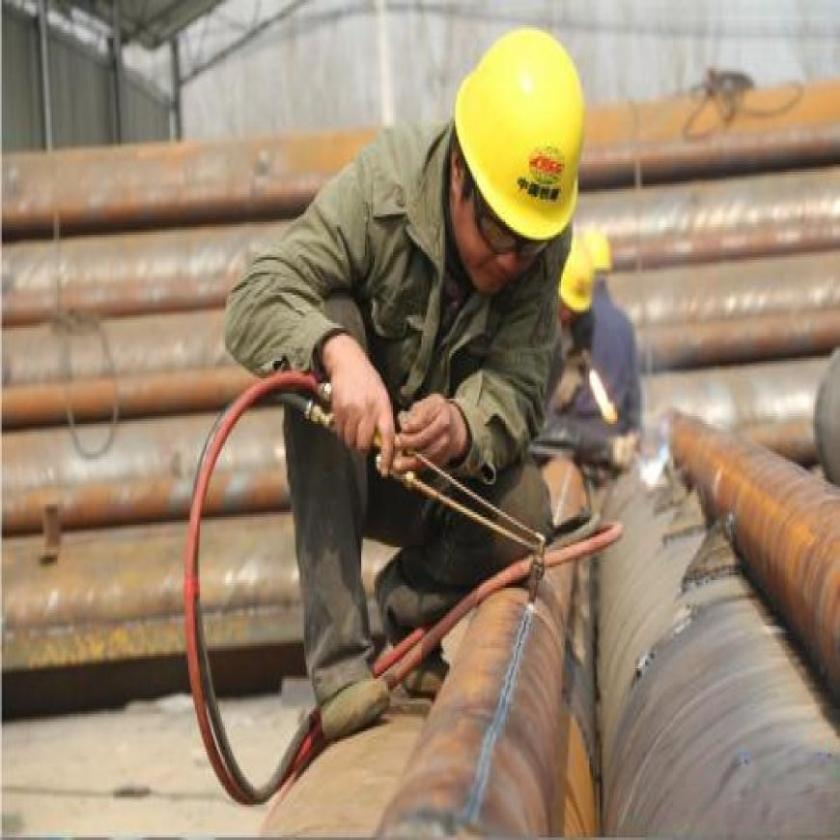Con_casco: (450, 15, 589, 288)
